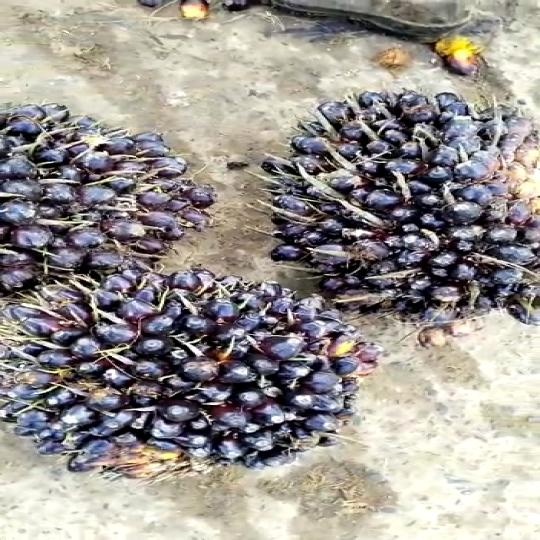mentah: (0, 269, 381, 484), (227, 74, 540, 322), (0, 100, 235, 291)
